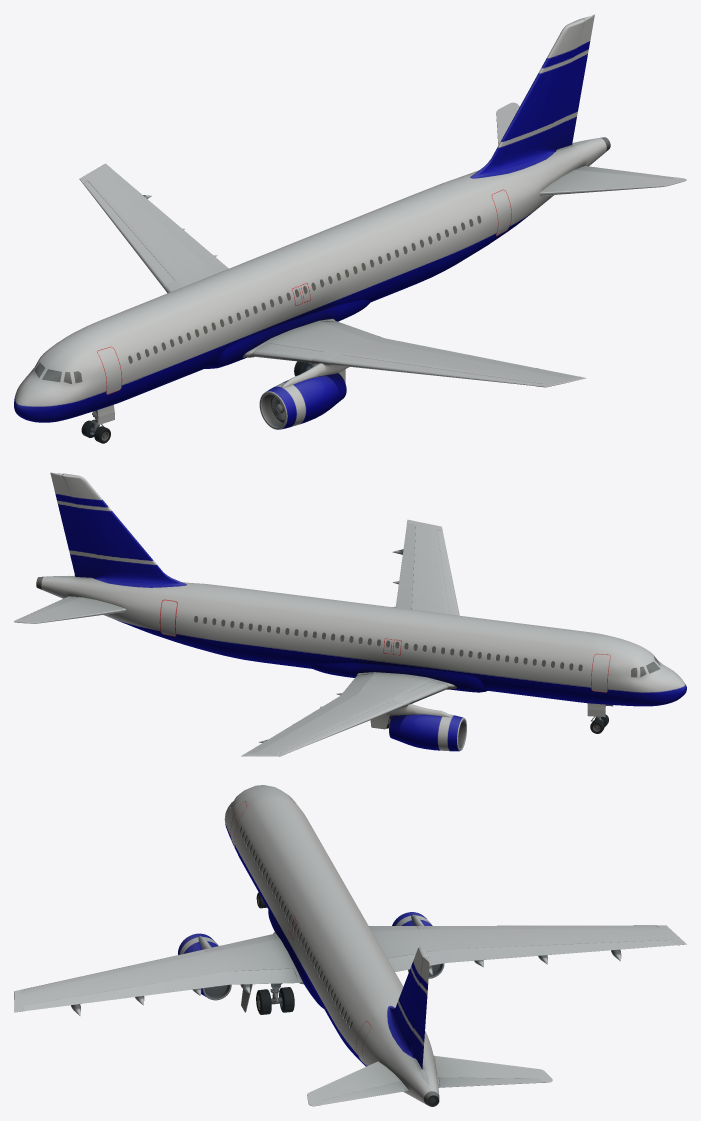
The model's file is boeing-787.glb.
3 renders of one model, top to bottom at view 1: azimuth 30°, elevation 25°; view 2: azimuth 150°, elevation 25°; view 3: azimuth 270°, elevation 25°, orthographic. The views are drawn at different scales.
Visible parts, largest first — view 1: node_id30; view 2: node_id30; view 3: node_id30.
Part boxes in pixels (left/top/right/bottom): node_id30: left=14, top=14, right=686, bottom=443; node_id30: left=14, top=472, right=686, bottom=756; node_id30: left=14, top=785, right=686, bottom=1106.
Bounding box in the file's own units: 0.5937 × 0.1821 × 0.4983.
1 material, 1 textured.
